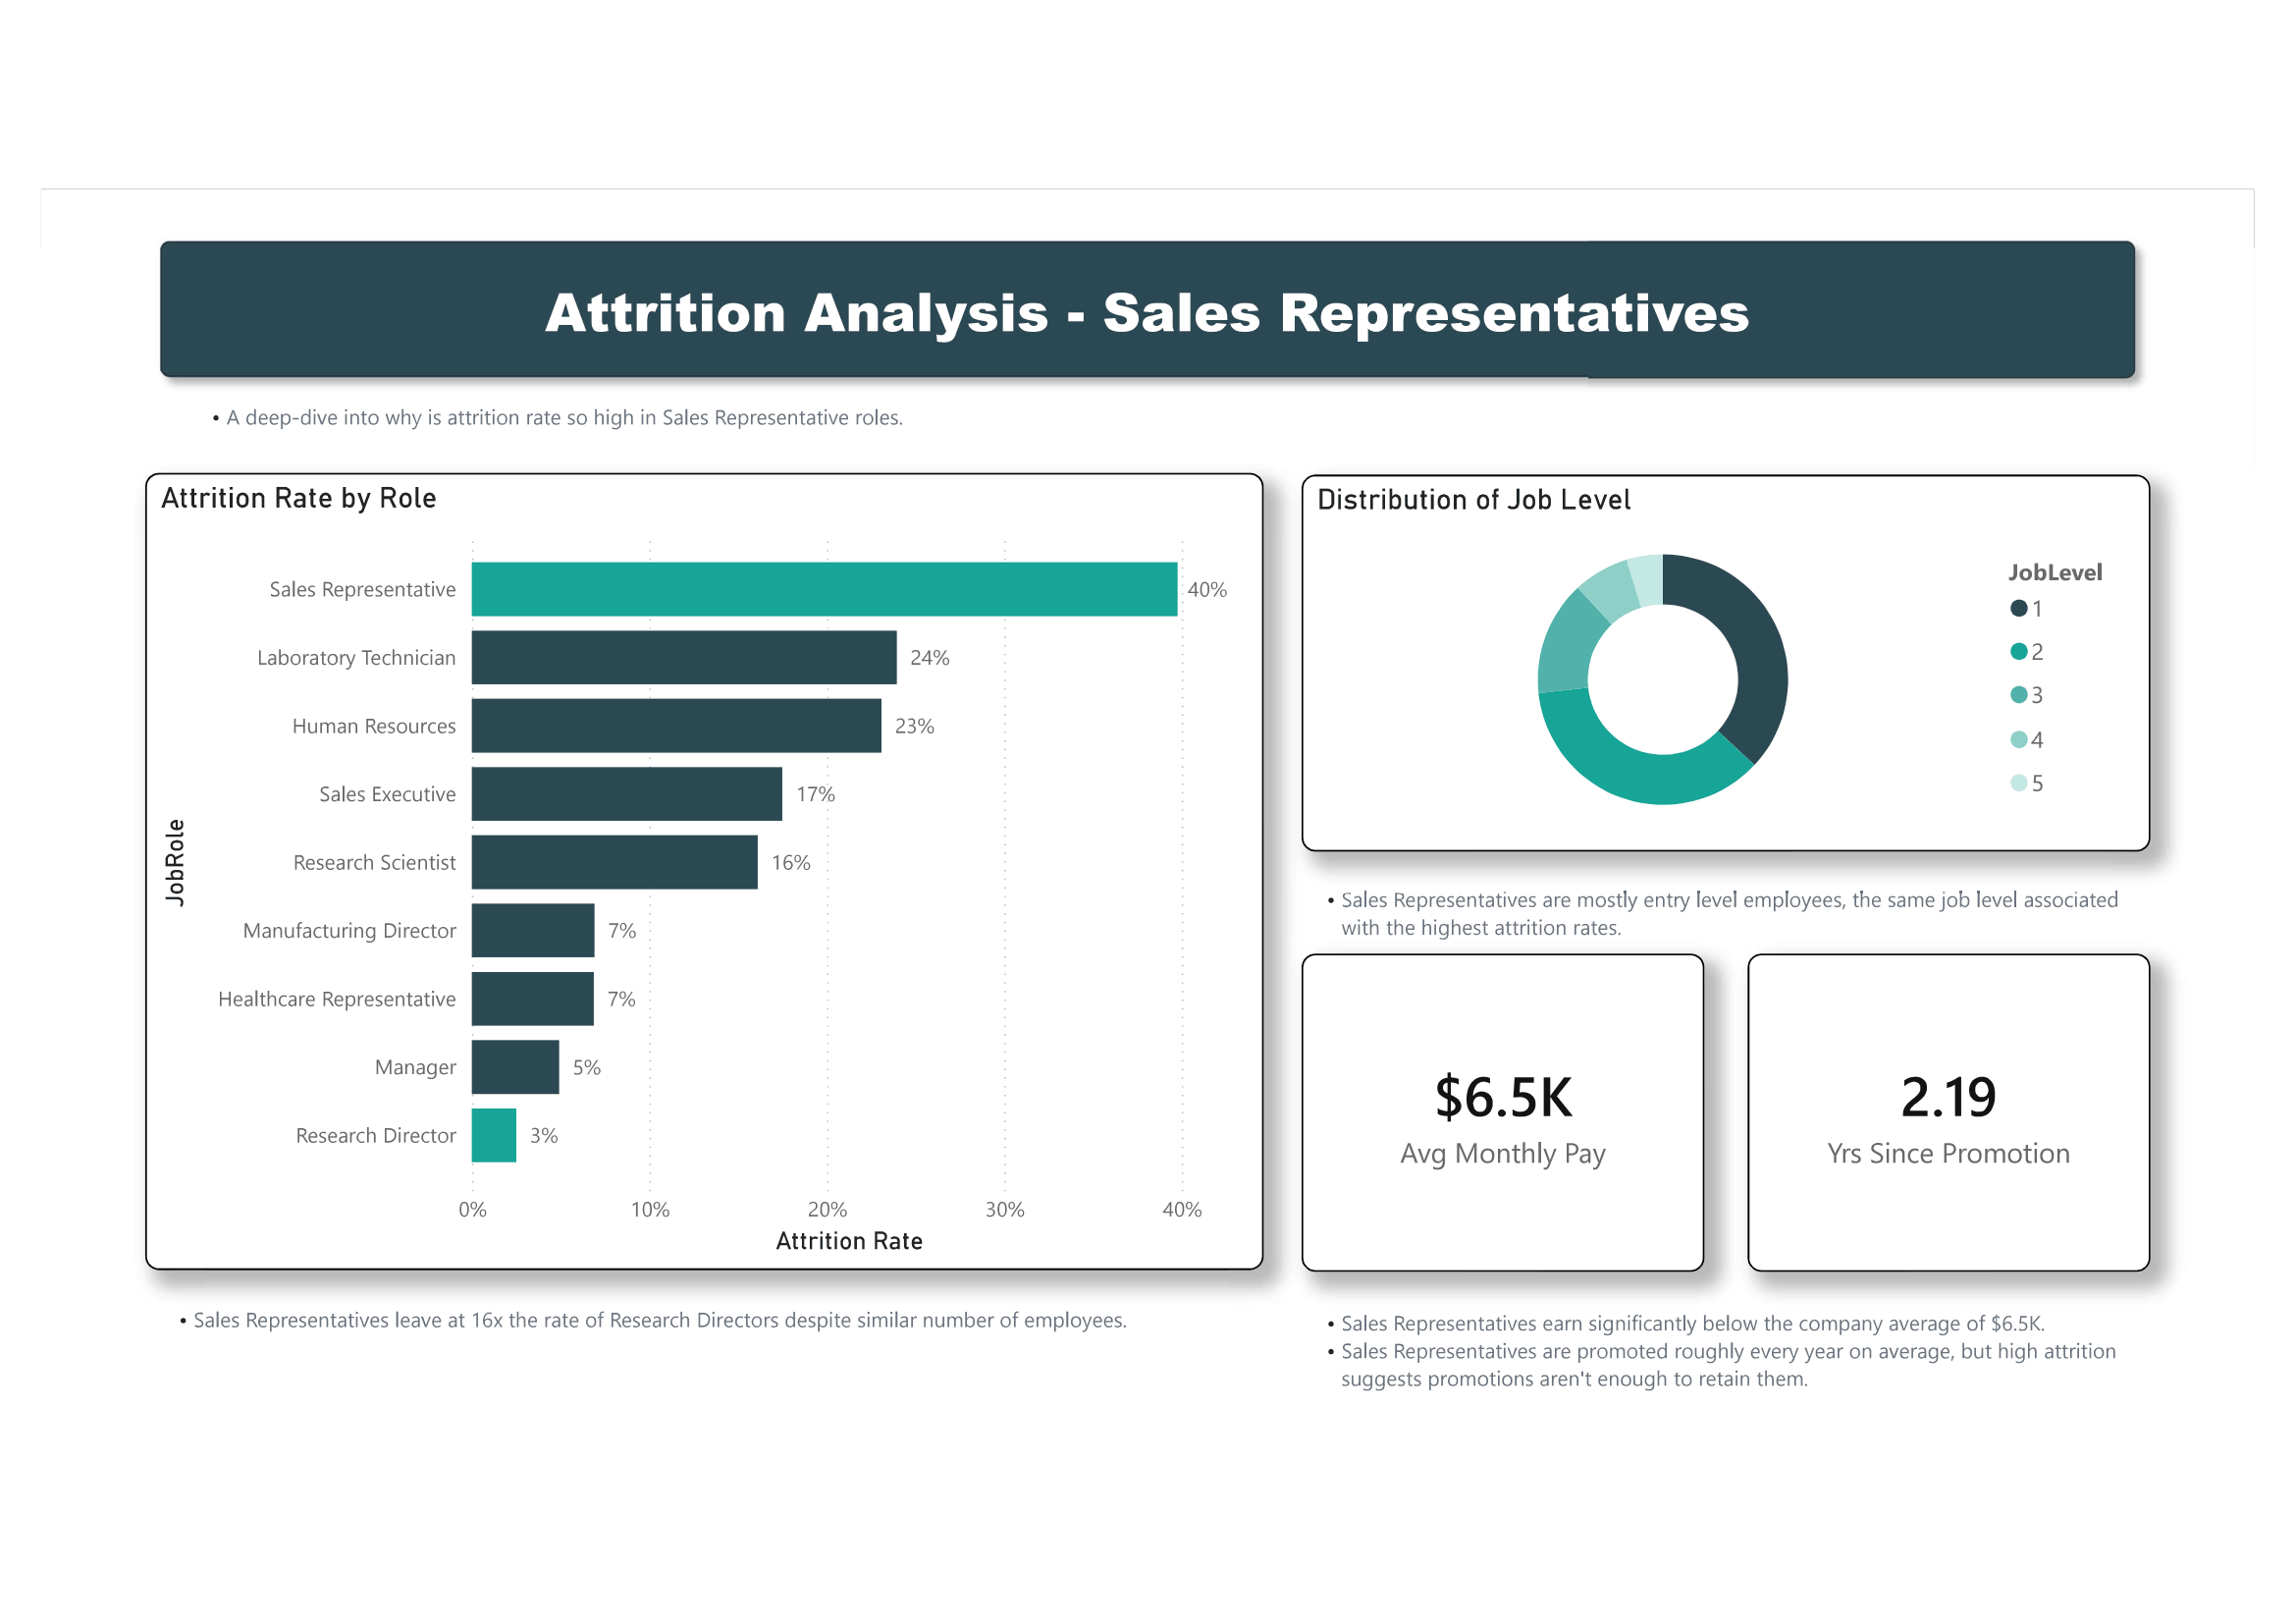

This screenshot's page, from the dashboard's own definition file:
{"tool":"powerbi","page":{"name":"Attrition Analysis - Sales Representatives","canvas":[1280,720],"ordinal":1},"visuals":[{"type":"shape","box":[60,20.6,1160,97.3],"z":0},{"type":"clusteredBarChart","title":"Attrition Rate by Role","fields":{"Category":["dataset.JobRole"],"Y":["_measures.Attrition Rate"]},"box":[60.1,164.3,647.3,461.3],"z":0,"group":"g1"},{"type":"textbox","box":[729,396.5,491.3,45.7],"z":0,"group":"g2"},{"type":"donutChart","title":"Distribution of Job Level","fields":{"Category":["dataset.JobLevel"],"Y":["CountNonNull(dataset.EmployeeNumber)"]},"box":[729.2,164.7,490.3,217.8],"z":1000,"group":"g2"},{"type":"textbox","box":[65.5,639.8,641.4,43],"z":1000,"group":"g1"},{"type":"textbox","box":[729,641.4,491.3,77.8],"z":1000,"group":"g3"},{"type":"textbox","box":[84.2,118,1136.4,45.7],"z":2000},{"type":"group","id":"g1","title":"Group 1","box":[60.1,164.3,647.3,518.5],"z":3000},{"type":"group","id":"g2","title":"Group 2","box":[729,164.7,491.3,277.5],"z":4000},{"type":"cardVisual","fields":{"Data":["Avg(dataset.MonthlyIncome)"]},"box":[729.2,441.9,232.4,183.9],"z":5000,"group":"g3"},{"type":"cardVisual","fields":{"Data":["Avg(dataset.YearsSinceLastPromotion)"]},"box":[987.2,441.9,232.4,183.9],"z":6000,"group":"g3"},{"type":"group","id":"g3","title":"Group 3","box":[729,441.9,491.3,277.3],"z":6001}]}

Visuals, with their boxes on the page's 1280x720 design canvas (x1, y1, x2, y2). These are canvas units, not pixel positions in the 2296x1624 screenshot, which may show the page scaled, cropped or inside an application window:
shape: {"x1": 60, "y1": 21, "x2": 1220, "y2": 118}
"Attrition Rate by Role" clusteredBarChart: {"x1": 60, "y1": 164, "x2": 707, "y2": 626}
textbox: {"x1": 729, "y1": 396, "x2": 1220, "y2": 442}
"Distribution of Job Level" donutChart: {"x1": 729, "y1": 165, "x2": 1220, "y2": 382}
textbox: {"x1": 66, "y1": 640, "x2": 707, "y2": 683}
textbox: {"x1": 729, "y1": 641, "x2": 1220, "y2": 719}
textbox: {"x1": 84, "y1": 118, "x2": 1221, "y2": 164}
"Group 1" group: {"x1": 60, "y1": 164, "x2": 707, "y2": 683}
"Group 2" group: {"x1": 729, "y1": 165, "x2": 1220, "y2": 442}
cardVisual - Avg(dataset.MonthlyIncome): {"x1": 729, "y1": 442, "x2": 962, "y2": 626}
cardVisual - Avg(dataset.YearsSinceLastPromotion): {"x1": 987, "y1": 442, "x2": 1220, "y2": 626}
"Group 3" group: {"x1": 729, "y1": 442, "x2": 1220, "y2": 719}
